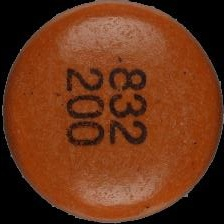53808-0931: (0, 0, 224, 224)
